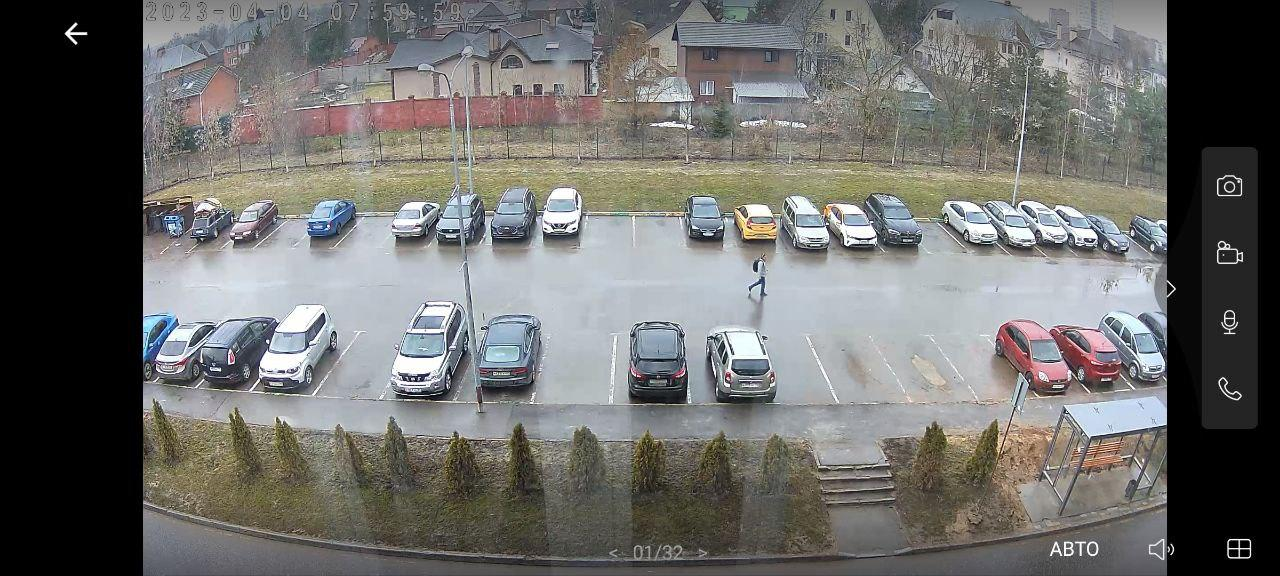empty: (378, 301, 470, 404), (240, 311, 340, 396), (616, 320, 702, 408), (185, 316, 275, 389), (992, 323, 1083, 395), (468, 313, 548, 393), (704, 328, 784, 403), (1060, 324, 1128, 387), (144, 317, 205, 385), (936, 200, 1013, 250), (862, 196, 932, 251), (525, 186, 594, 241), (1113, 317, 1166, 382), (1050, 204, 1117, 252), (673, 195, 737, 244), (784, 200, 840, 255), (173, 197, 233, 246), (483, 190, 538, 243), (826, 199, 879, 253), (298, 200, 363, 243), (385, 198, 443, 242), (222, 200, 280, 244), (430, 196, 482, 243), (1087, 212, 1135, 255), (735, 203, 781, 246), (1131, 216, 1168, 258)
occupied: (818, 326, 879, 403), (891, 326, 945, 405), (341, 321, 399, 393), (553, 320, 604, 397), (584, 196, 635, 256), (957, 329, 1000, 394), (766, 330, 808, 392), (634, 200, 681, 255), (352, 200, 397, 251), (914, 202, 949, 255), (266, 221, 306, 247)
